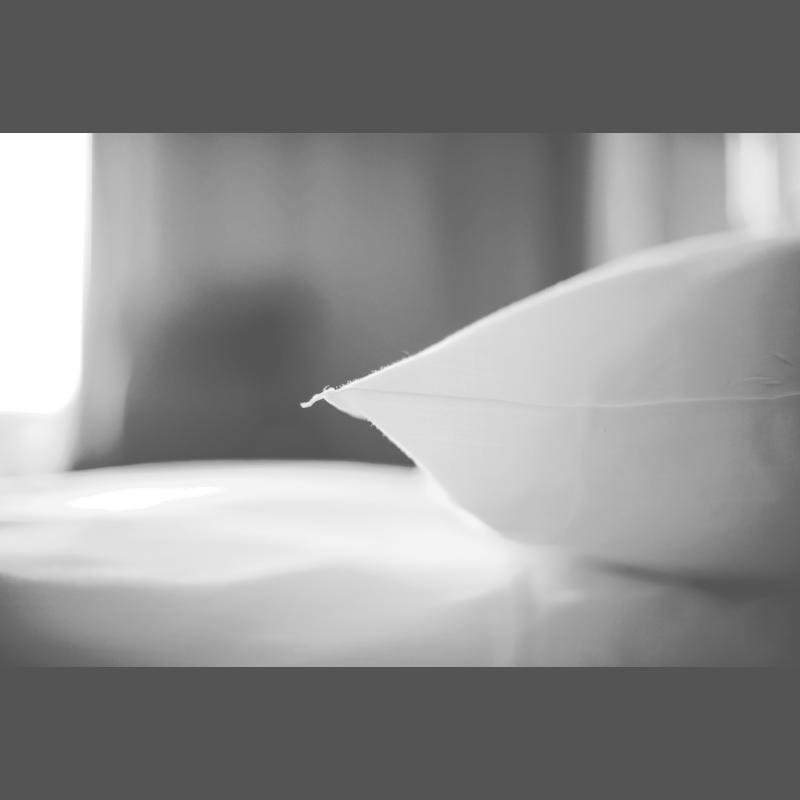pillow: (289, 224, 796, 584)
